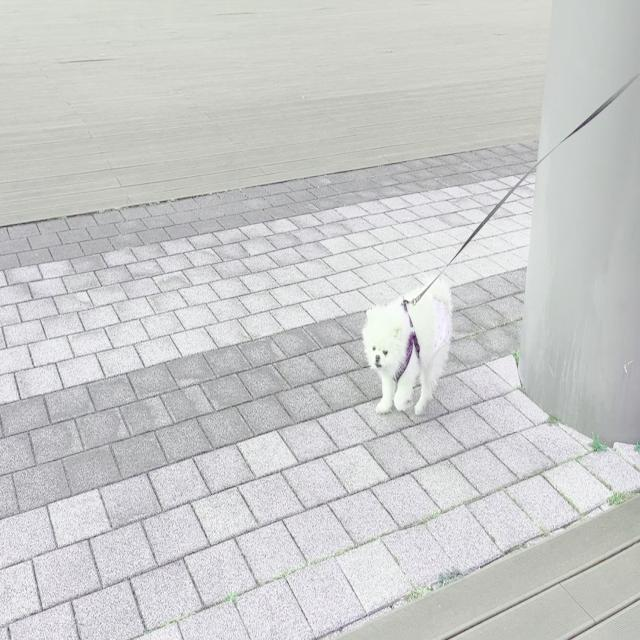Dog: (361, 278, 452, 418)
